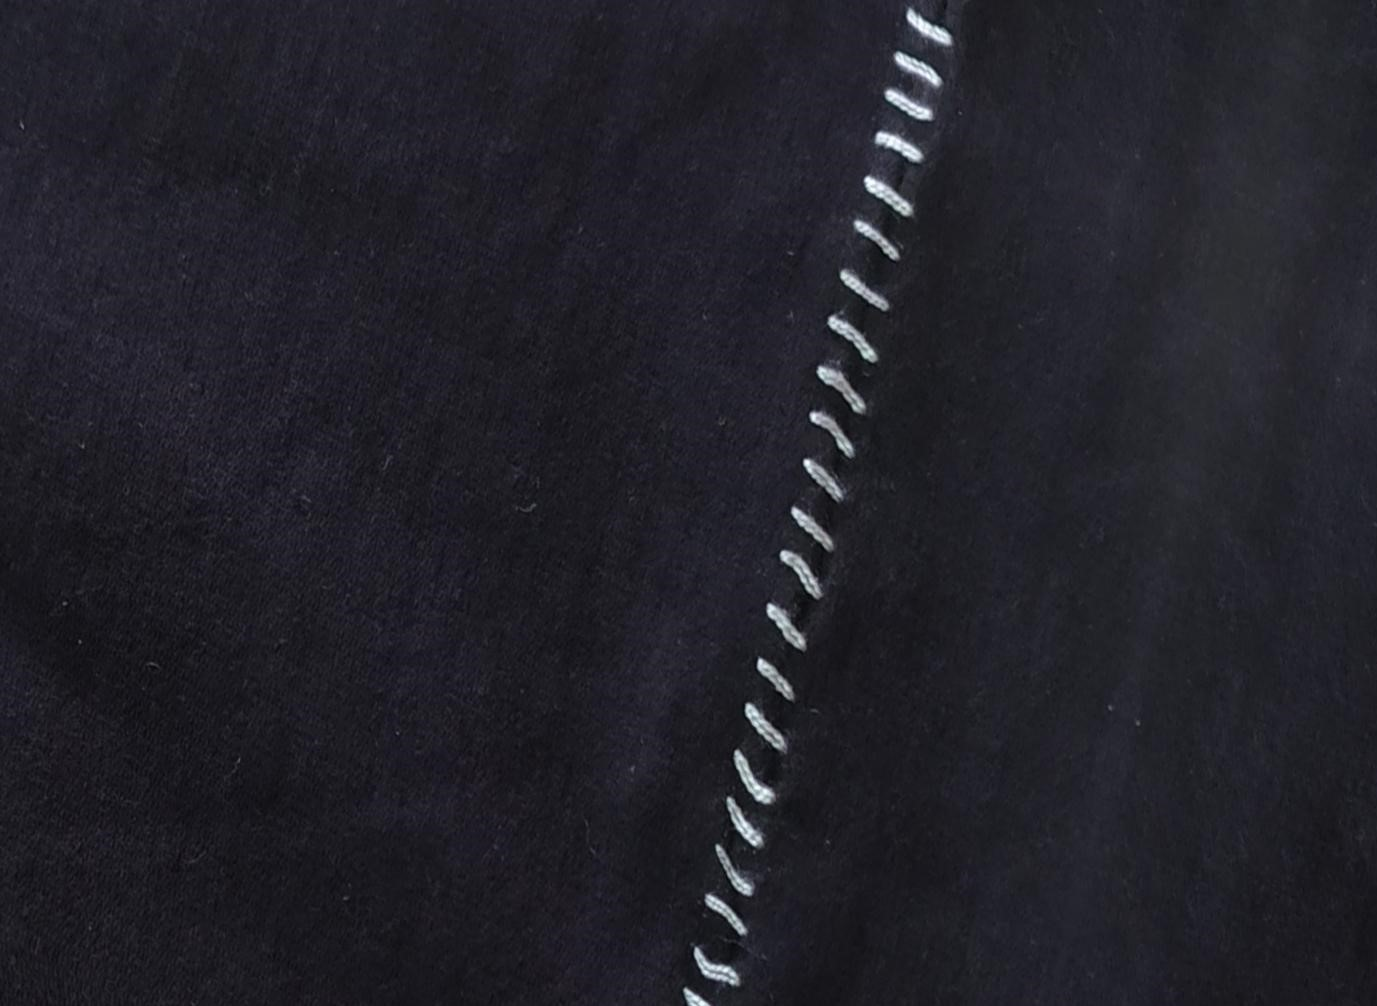slub: (672, 0, 964, 1006)
